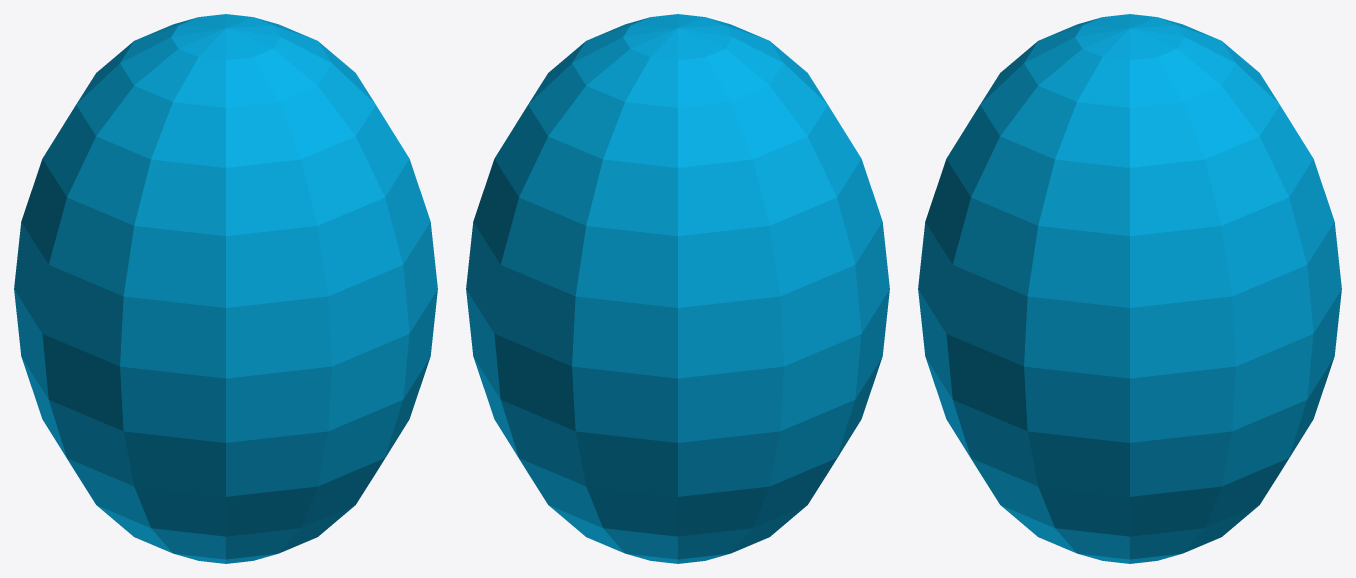
Rendered from Barrier.fbx.
3 renders of one model, left to right at view 1: azimuth 30°, elevation 25°; view 2: azimuth 150°, elevation 25°; view 3: azimuth 270°, elevation 25°, orthographic.
Parts seen in each view (by area): view 1: pSphere1; view 2: pSphere1; view 3: pSphere1.
Part boxes in pixels (left/top/right/bottom): pSphere1: left=14, top=14, right=437, bottom=563; pSphere1: left=466, top=14, right=889, bottom=563; pSphere1: left=918, top=14, right=1341, bottom=563.
Bounding box in the file's own units: 4.57 × 6.2 × 4.57.
